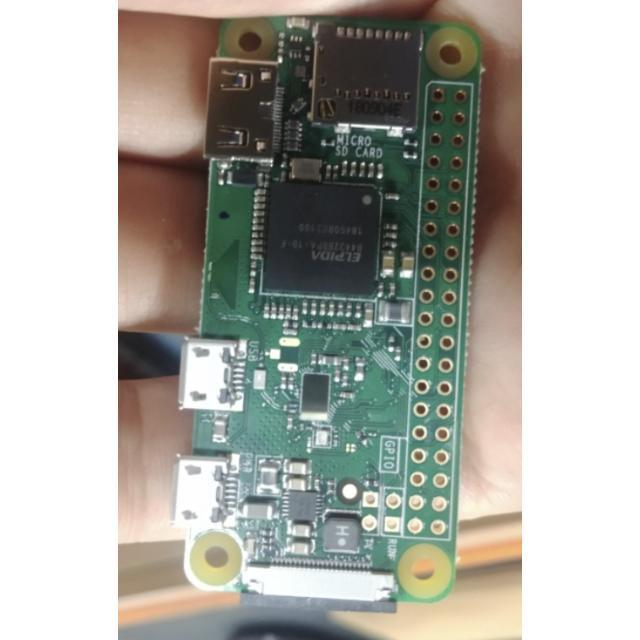Raspberry-Pi-Zero-W: (175, 17, 485, 612)
